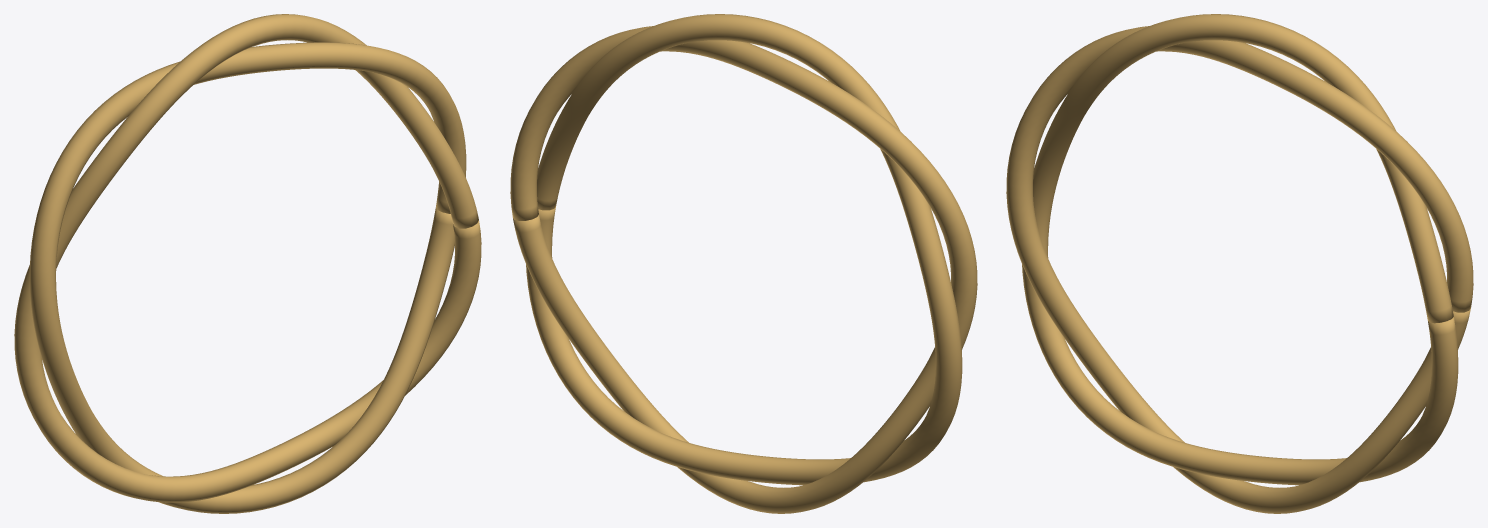
File: bands-twisted.glb
3 renders of one model, left to right at view 1: azimuth 30°, elevation 25°; view 2: azimuth 150°, elevation 25°; view 3: azimuth 330°, elevation 25°, orthographic.
Parts seen in each view (by area): view 1: Band strand, Band strand.001; view 2: Band strand, Band strand.001; view 3: Band strand, Band strand.001.
Part boxes in pixels (x1,y1,x2,y2): Band strand: (14,14,481,502); Band strand.001: (29,42,466,513); Band strand: (526,14,962,485); Band strand.001: (510,26,977,513); Band strand: (1022,14,1458,485); Band strand.001: (1006,26,1473,513).
Size of the model in its own units: 19.57 by 20.4 by 2.3.
